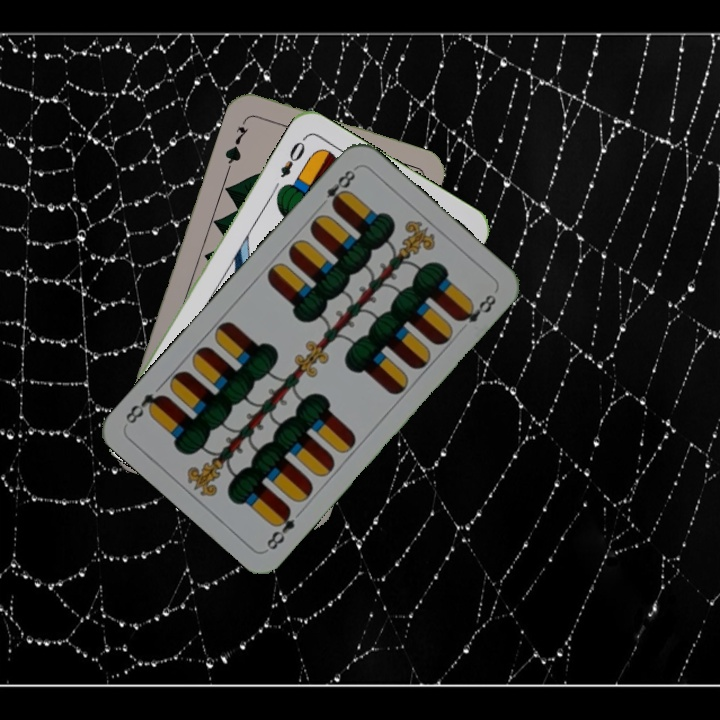E8: (314, 164, 359, 211), (262, 503, 298, 553)
EO: (276, 133, 309, 181)
G7: (220, 114, 251, 172)
